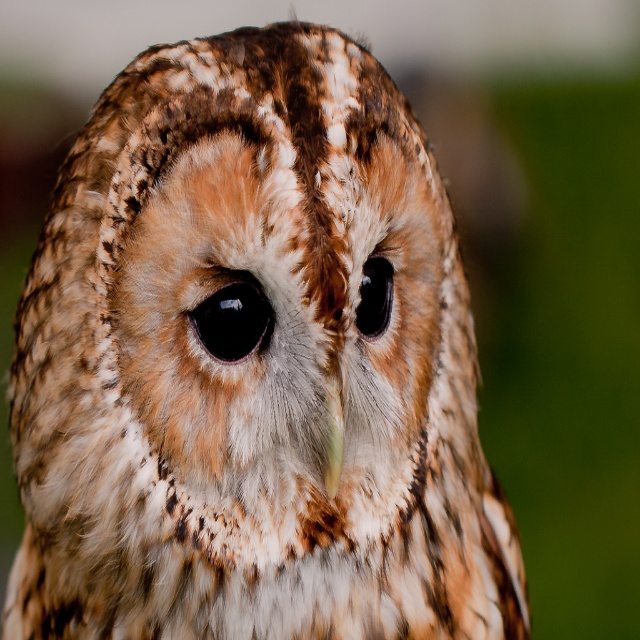Owl: (0, 11, 540, 639)
